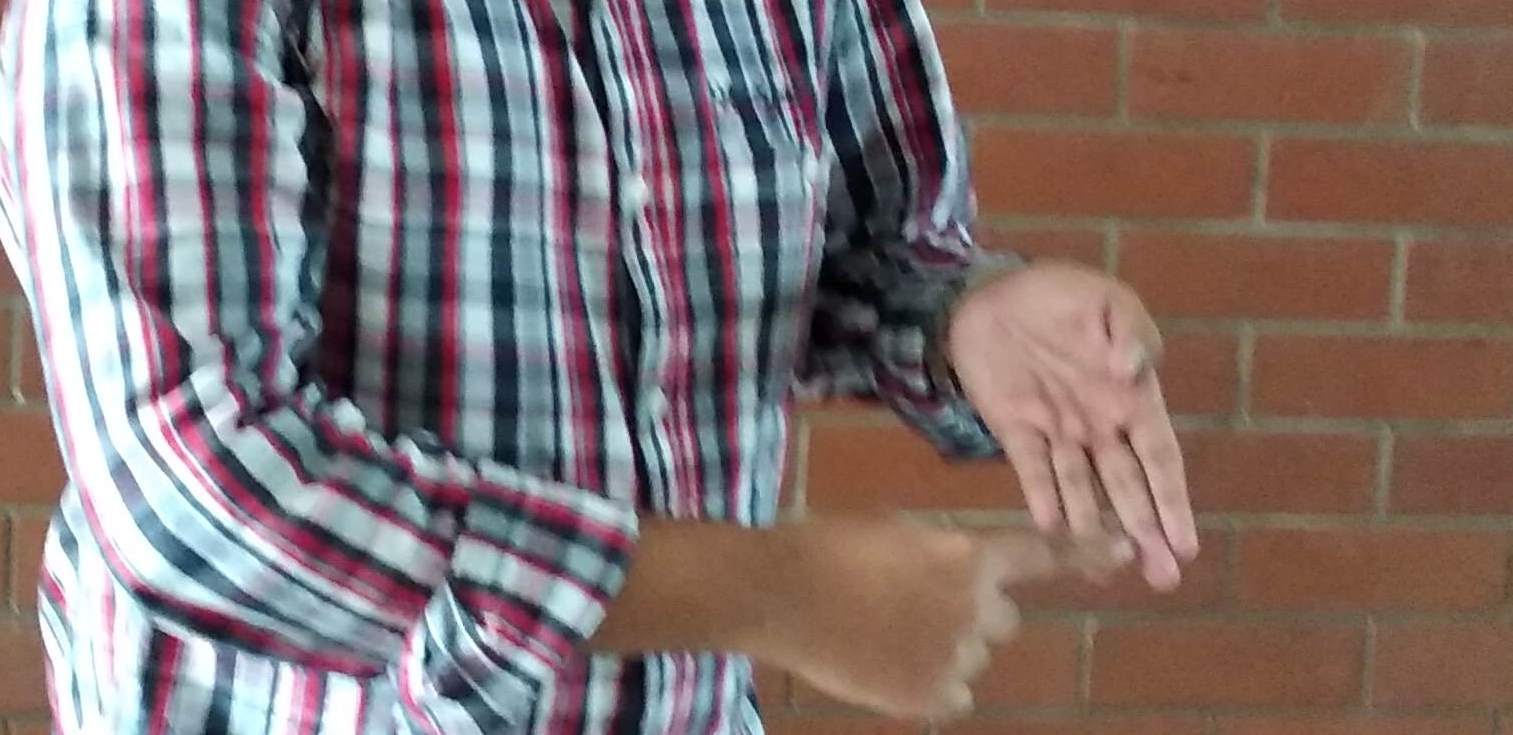e: (872, 288, 1211, 683)
